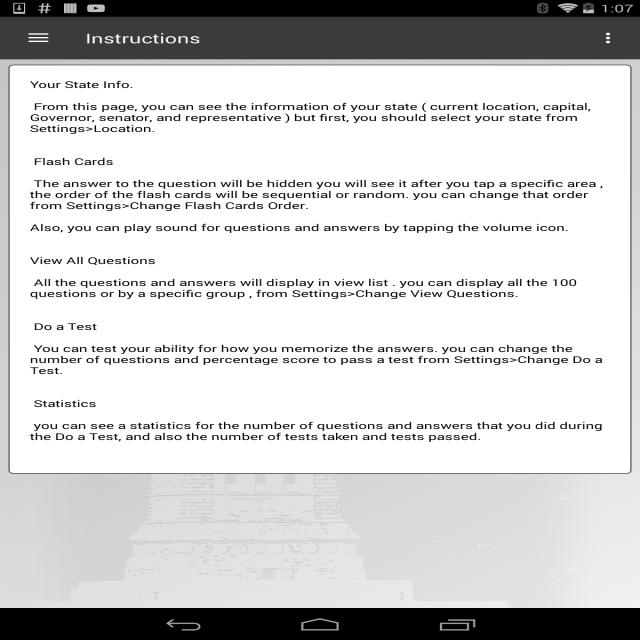ImageButton: (9, 17, 68, 59)
ImageView: (0, 59, 640, 608), (589, 22, 631, 54)
TextView: (19, 72, 621, 460), (86, 29, 200, 47)
